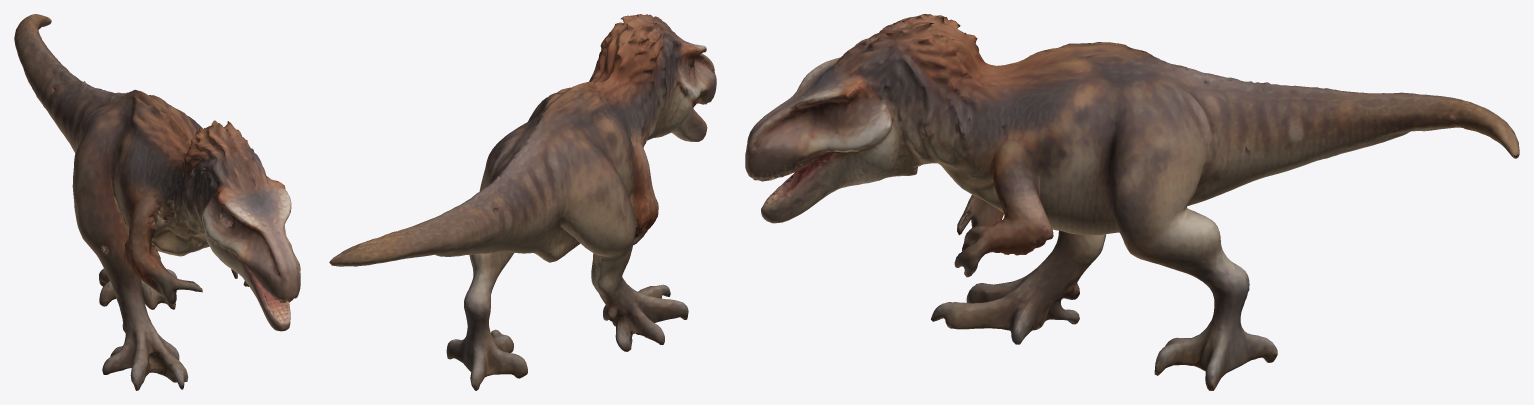
3 renders of one model, left to right at view 1: azimuth 30°, elevation 25°; view 2: azimuth 150°, elevation 25°; view 3: azimuth 270°, elevation 25°, orthographic. The views are drawn at different scales.
Visible parts, largest first — view 1: world; view 2: world; view 3: world.
Part boxes in pixels (left/top/right/bottom): world: left=14, top=14, right=300, bottom=390; world: left=329, top=14, right=716, bottom=390; world: left=745, top=14, right=1519, bottom=390.
Size of the model in its own units: 2.43 by 4.37 by 9.
1 material, 1 textured.
